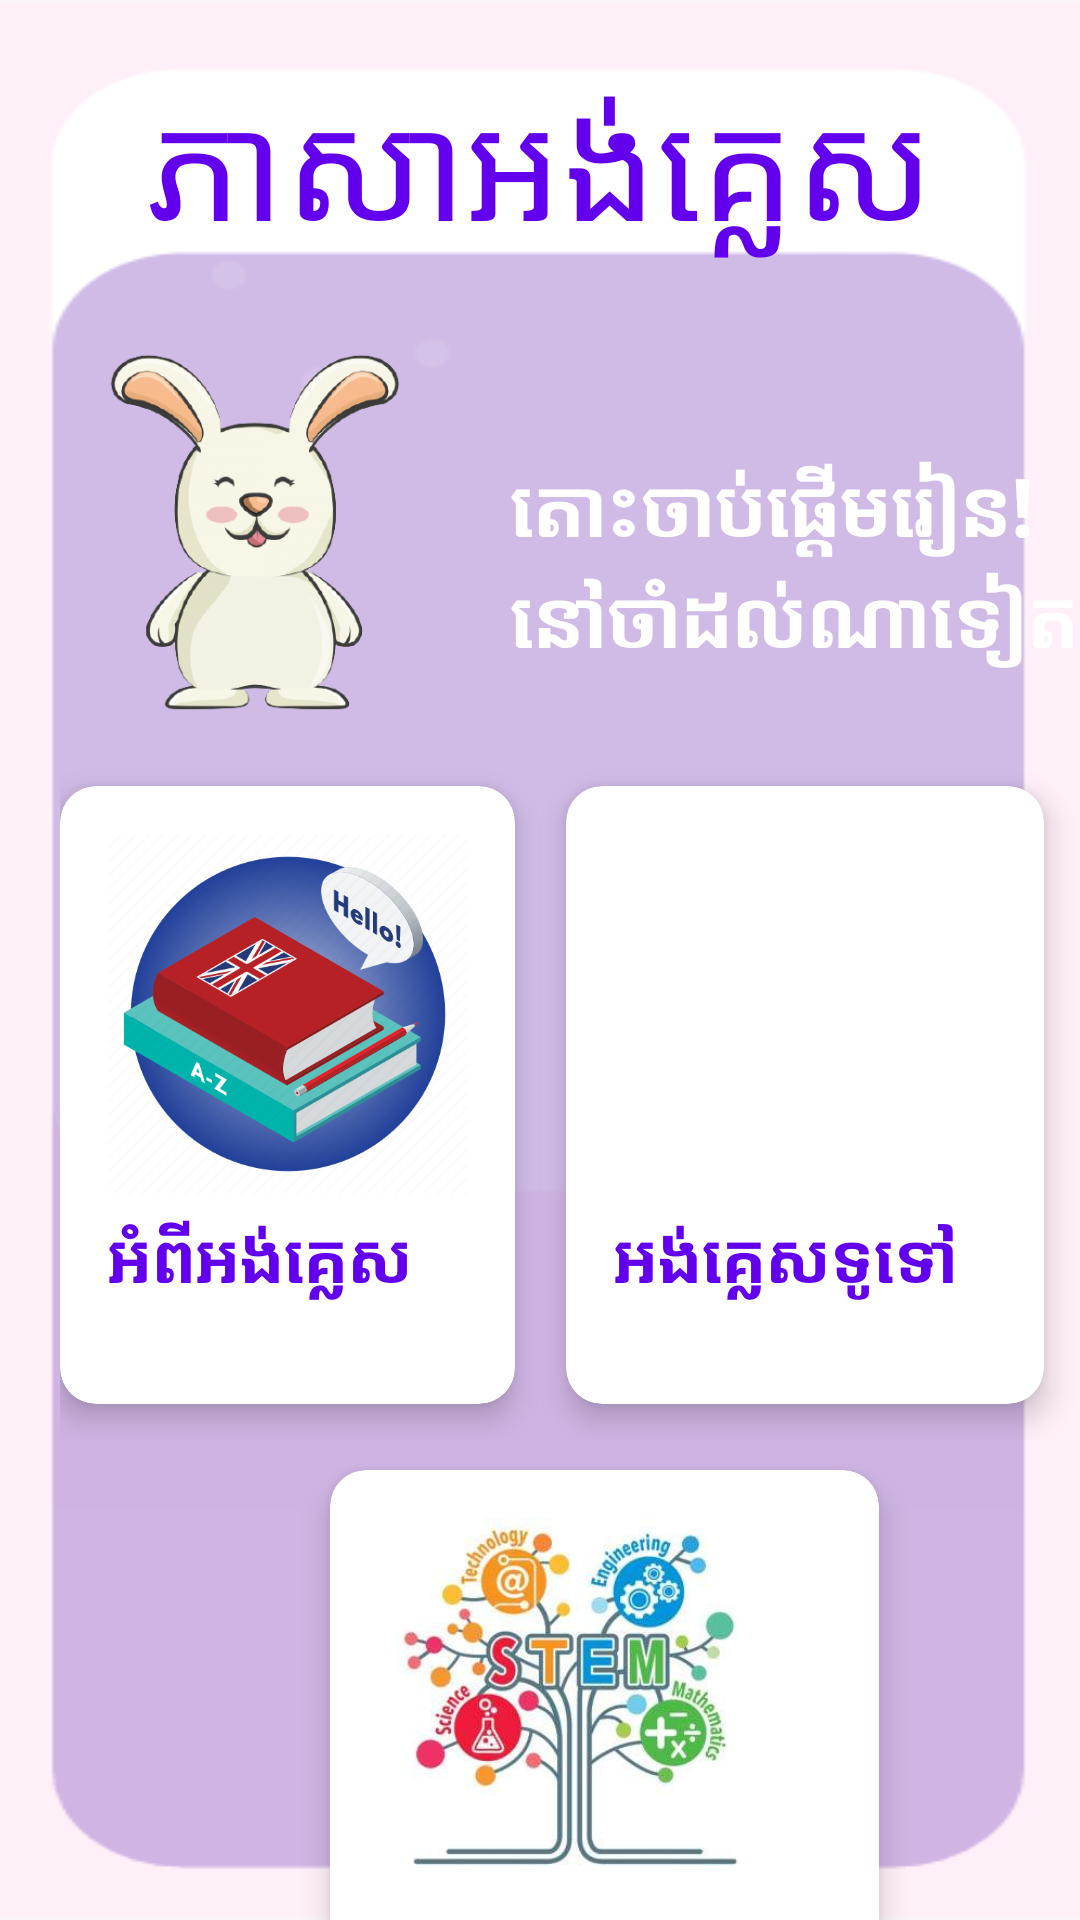

Where to tap for icons on this 1080*1920 app screen, as (x=x, y=y):
englishforstems: (x=570, y=1696)
rabit: (x=255, y=532)
